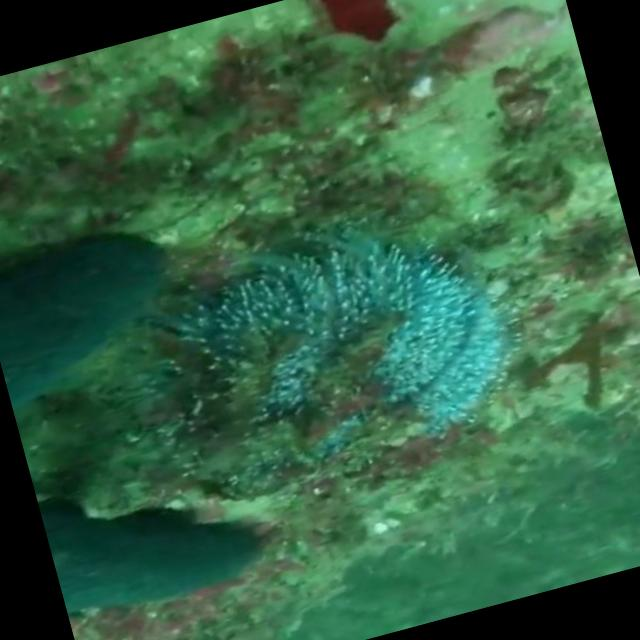Deniz Kestanesi: (96, 179, 542, 520)
